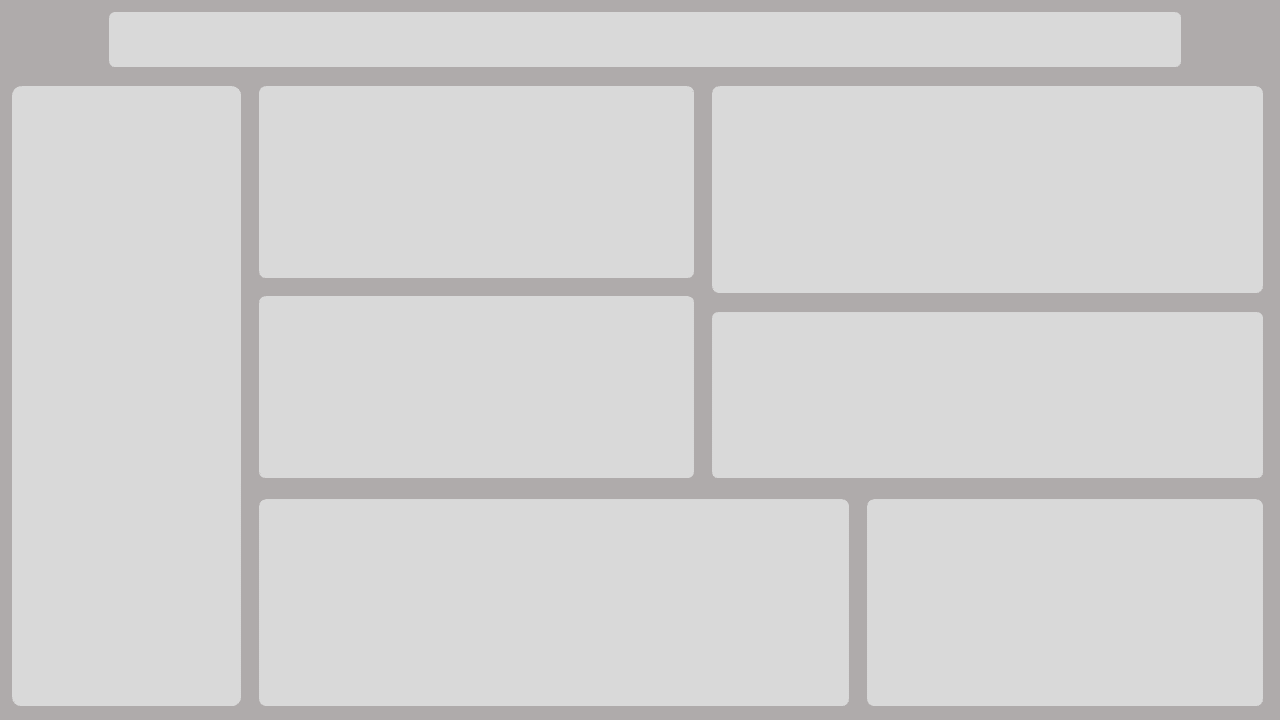

Layout of this report page (visuals, bound fields, positions):
{"tool":"powerbi","page":{"name":"OverView","canvas":[1920,1080],"ordinal":0},"visuals":[{"type":"cardVisual","fields":{"Data":["Table.TOTAL REVENUE"]},"box":[26,606,326,206],"z":0},{"type":"cardVisual","fields":{"Data":["Table.TOTAL PROFIT"]},"box":[26,844,326,208],"z":1000},{"type":"textbox","box":[164,16,1604,74],"z":2000},{"type":"map","title":"TOTAL REVENUE BY COUNTRY","fields":{"Category":["sales_data_sample.COUNTRY"],"Size":["Table.TOTAL REVENUE"]},"box":[1068,130,826,306],"z":3000},{"type":"treemap","title":"TOTAL QUANTITY SOLD BY PRODUCT","fields":{"Group":["sales_data_sample.PRODUCT"],"Values":["Table.TOTAL QUANTITY SOLD"]},"box":[1068,466,826,244],"z":4000},{"type":"lineChart","title":"TOTAL REVENUE, PROFIT and COST PER YEAR","fields":{"Category":["sales_data_sample.YEAR"],"Y":["Table.TOTAL REVENUE"],"Y2":["Table.TOTAL PROFIT","Table.TOTAL COST"]},"box":[390,436,650,274],"z":5000},{"type":"pieChart","title":"TOTAL REVENUE BY DEALSIZE","fields":{"Category":["sales_data_sample.DEALSIZE"],"Y":["Table.TOTAL REVENUE"]},"box":[390,130,650,284],"z":6000},{"type":"cardVisual","fields":{"Data":["Table.TOTAL QUANTITY SOLD"]},"box":[26,366,326,208],"z":7000},{"type":"clusteredBarChart","title":"TOTAL COST BY PRODUCT","fields":{"Category":["sales_data_sample.PRODUCT"],"Y":["Table.TOTAL COST"]},"box":[1300,746,592,316],"z":8000},{"type":"areaChart","title":"TOTAL REVENUE and PROFIT MARGIN BY PRODUCT","fields":{"Category":["sales_data_sample.PRODUCT"],"Y":["Table.TOTAL REVENUE"],"Y2":["Table.PROFIT MARGIN"]},"box":[390,756,874,296],"z":8001},{"type":"slicer","fields":{"Values":["sales_data_sample.YEAR"]},"box":[26,130,138,230],"z":8002},{"type":"slicer","fields":{"Values":["sales_data_sample.CITY"]},"box":[164,130,188,230],"z":8003}]}

Visuals, with their boxes in screenshot pixels (x1, y1, x2, y2), scaled from the page's 1920x1080 canvas onto the 1280x720 screenshot:
cardVisual - Table.TOTAL REVENUE: 17 404 235 541
cardVisual - Table.TOTAL PROFIT: 17 563 235 701
textbox: 109 11 1179 60
"TOTAL REVENUE BY COUNTRY" map: 712 87 1263 291
"TOTAL QUANTITY SOLD BY PRODUCT" treemap: 712 311 1263 473
"TOTAL REVENUE, PROFIT and COST PER YEAR" lineChart: 260 291 693 473
"TOTAL REVENUE BY DEALSIZE" pieChart: 260 87 693 276
cardVisual - Table.TOTAL QUANTITY SOLD: 17 244 235 383
"TOTAL COST BY PRODUCT" clusteredBarChart: 867 497 1261 708
"TOTAL REVENUE and PROFIT MARGIN BY PRODUCT" areaChart: 260 504 843 701
slicer - sales_data_sample.YEAR: 17 87 109 240
slicer - sales_data_sample.CITY: 109 87 235 240
